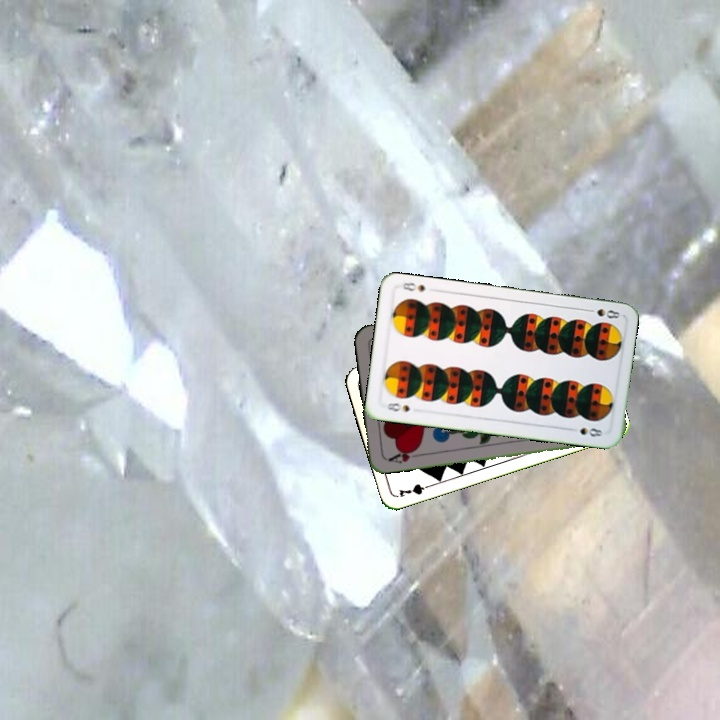G7: (395, 480, 435, 499)
HA: (383, 445, 424, 466)
S8: (582, 304, 622, 321), (382, 398, 412, 414)
